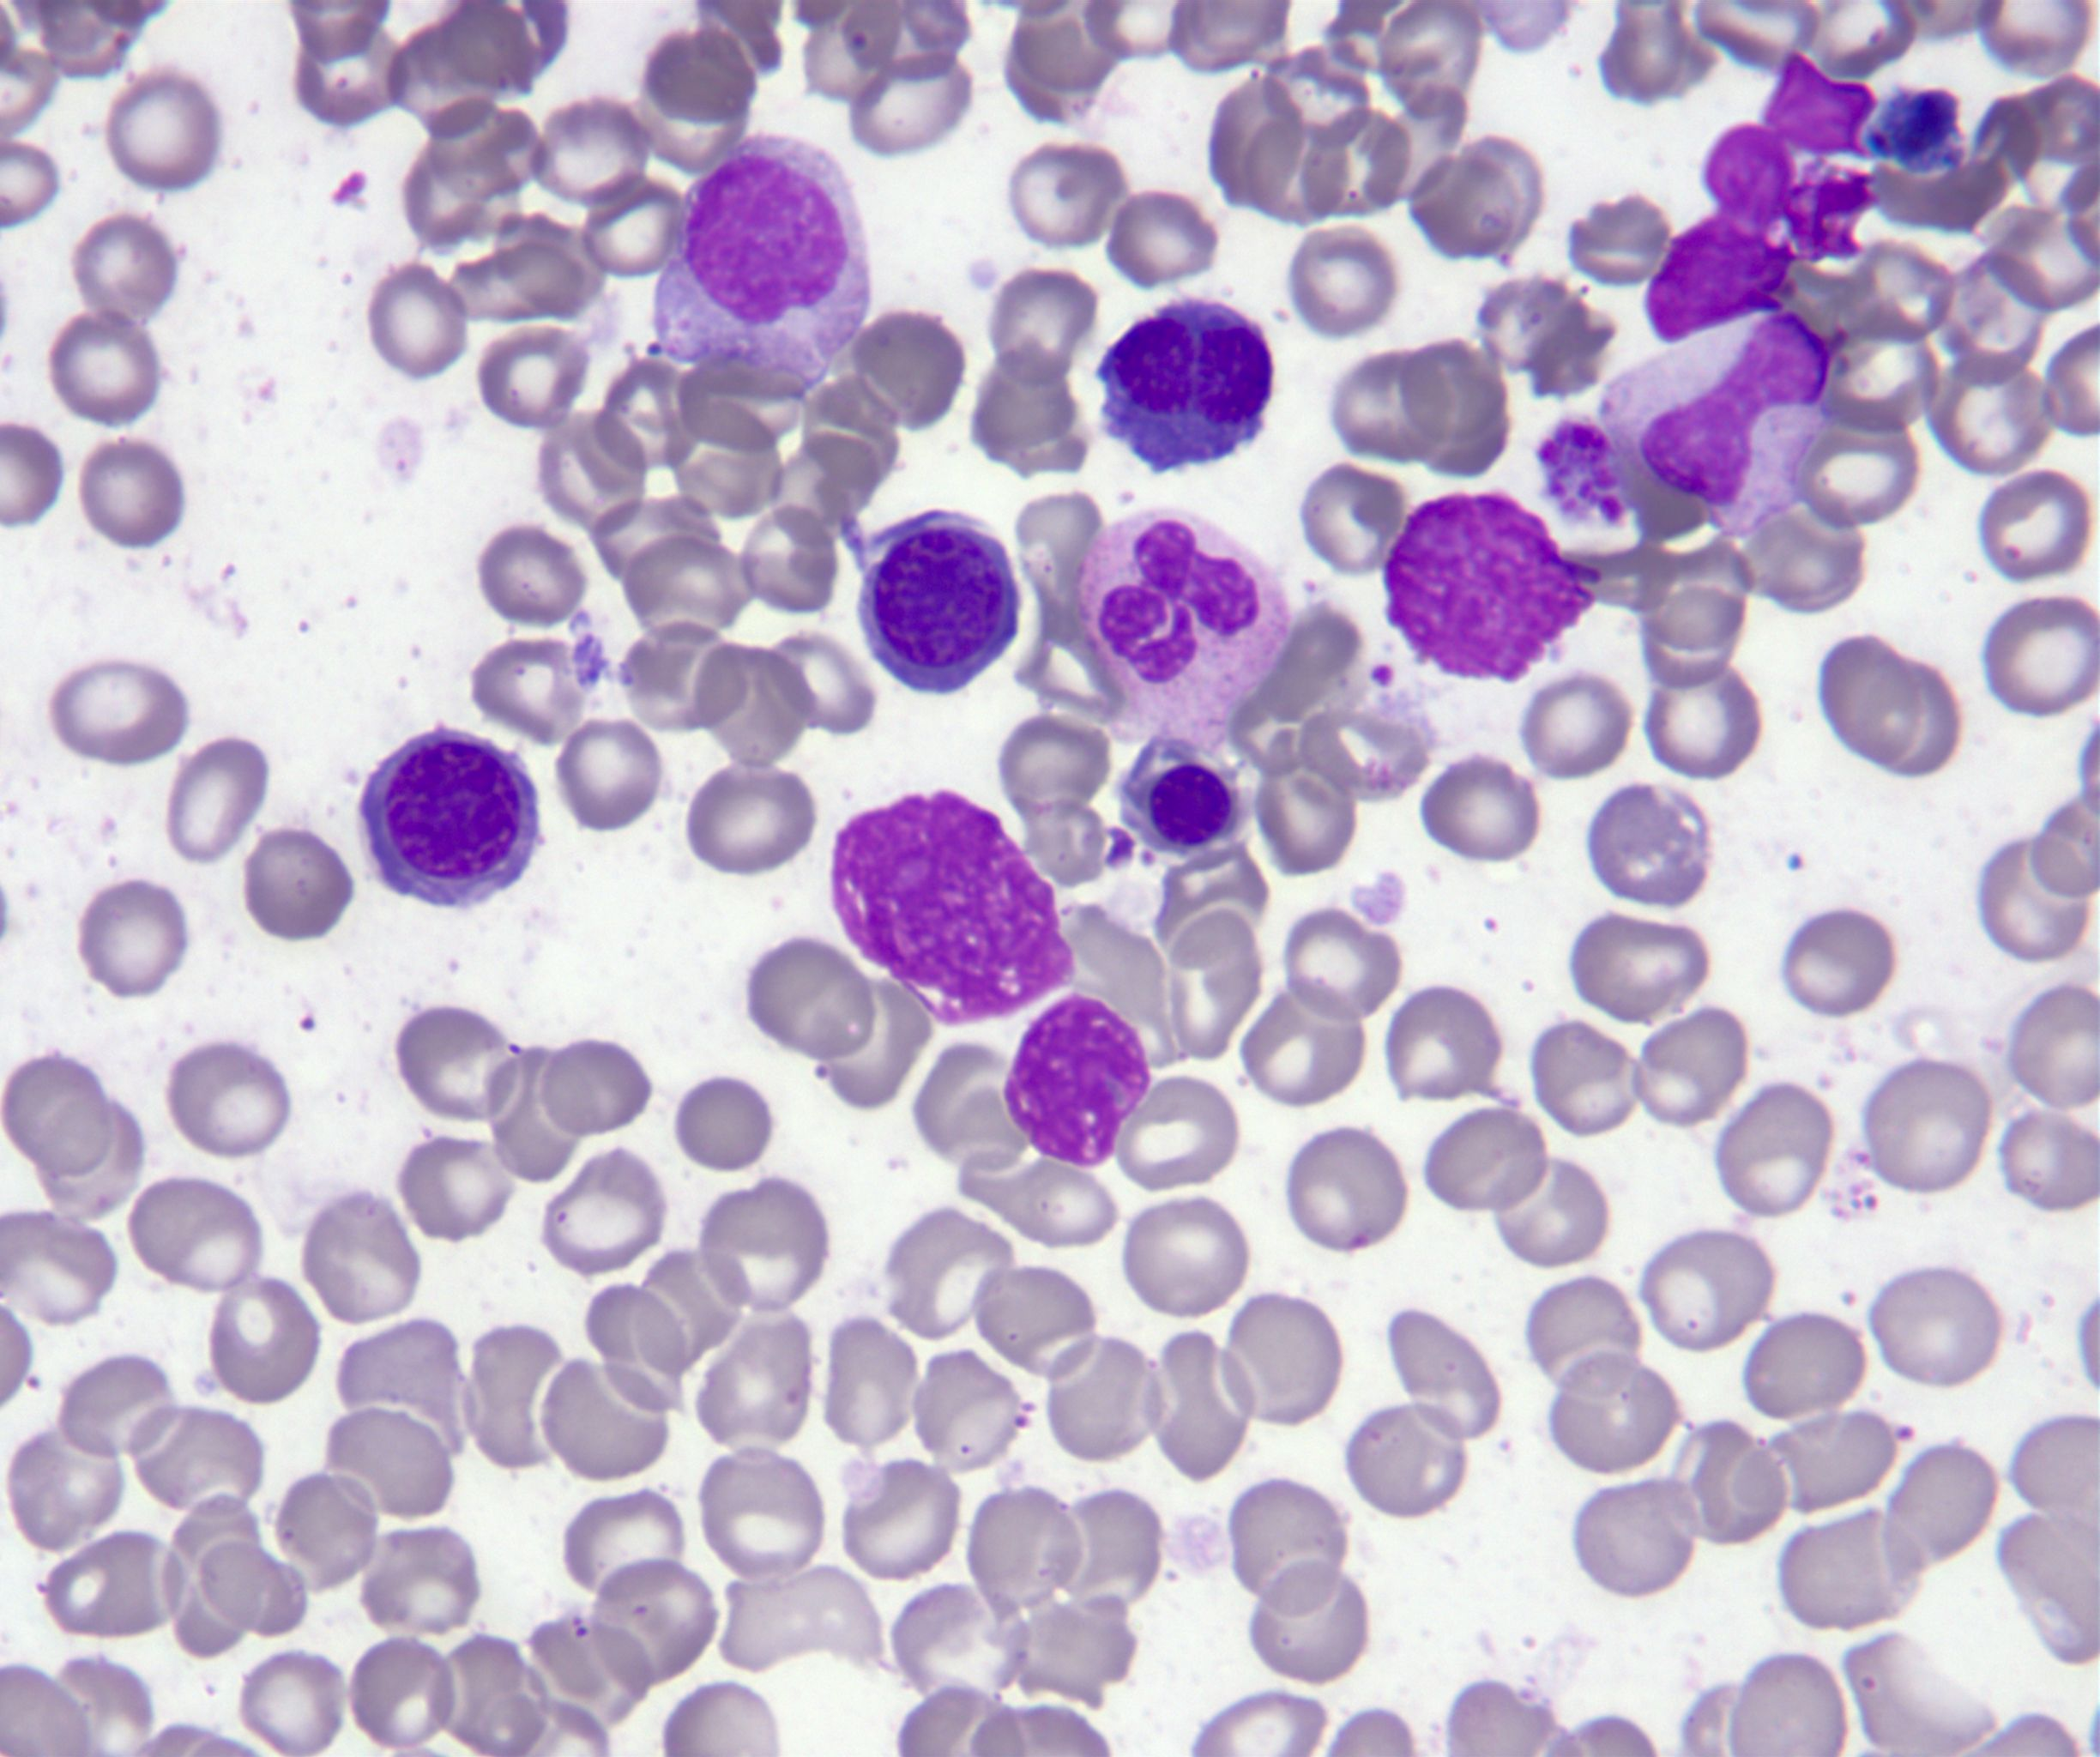22: (837, 511, 1020, 694), (363, 729, 537, 907)
23: (1116, 736, 1251, 851)
3: (652, 138, 870, 387)
5: (1601, 311, 1847, 536)
6: (1076, 508, 1292, 754)
x: (832, 790, 1076, 1026), (1383, 492, 1599, 682), (1095, 300, 1273, 473), (1005, 996, 1149, 1167), (1643, 216, 1797, 342), (1762, 51, 1878, 155), (1784, 159, 1882, 262), (1863, 87, 1967, 176), (1704, 122, 1793, 216)
